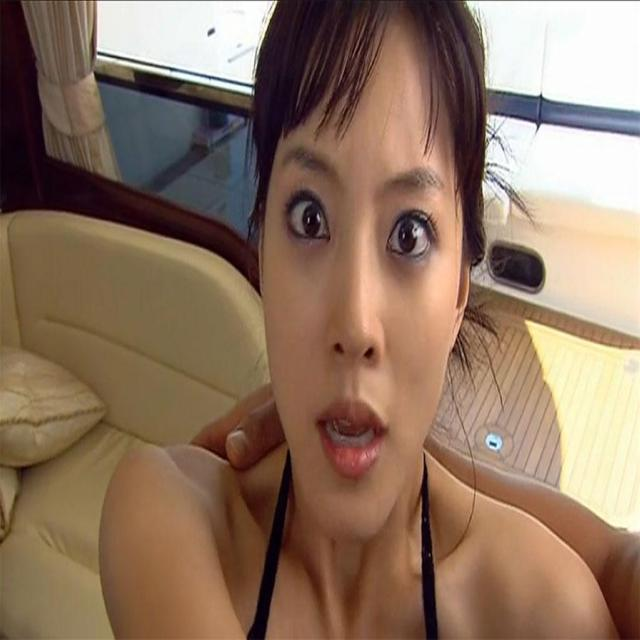Face: (275, 32, 469, 530)
